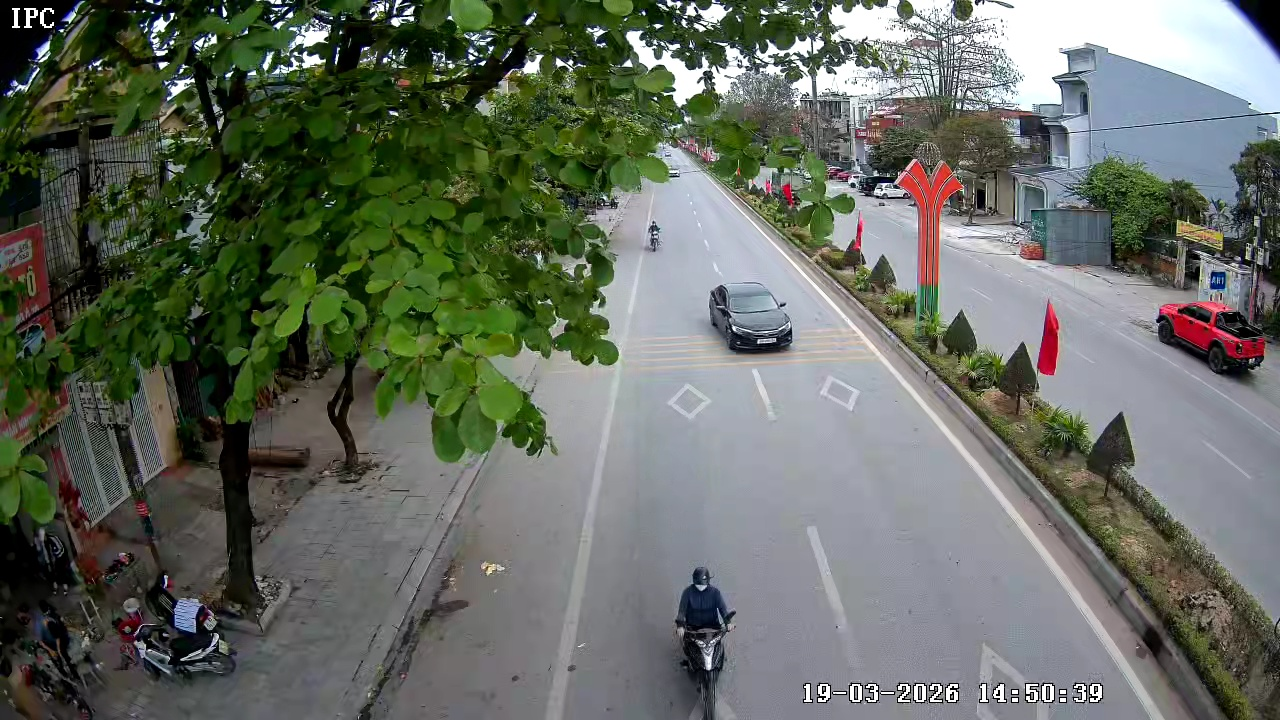car: (1151, 299, 1267, 379), (707, 279, 793, 352)
motorbike: (669, 563, 740, 719), (644, 217, 663, 253)
